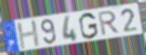2: (120, 8, 139, 33)
4: (62, 15, 79, 43)
9: (40, 18, 58, 46)
G: (78, 12, 100, 40)
H: (16, 19, 42, 51)
R: (97, 10, 121, 37)
